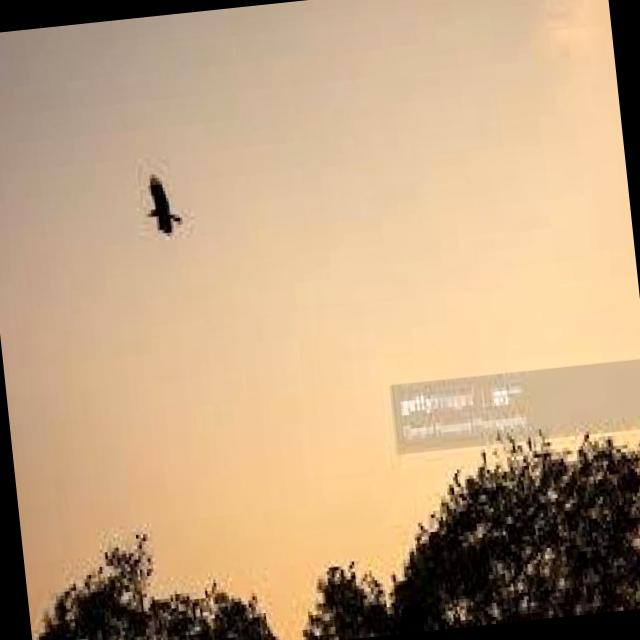bird: (136, 165, 188, 244)
